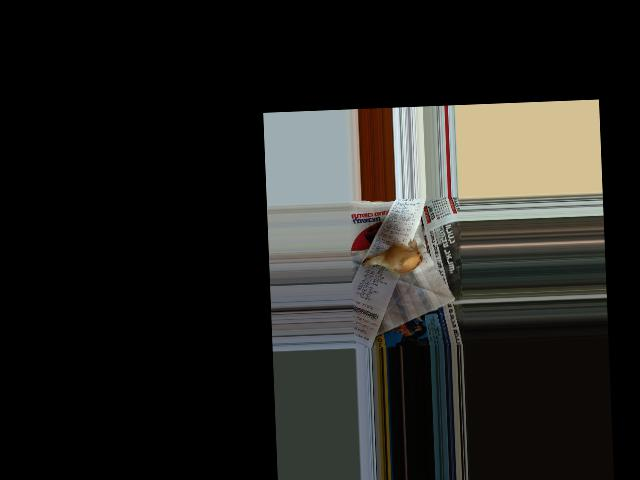onion: (377, 243, 420, 276)
